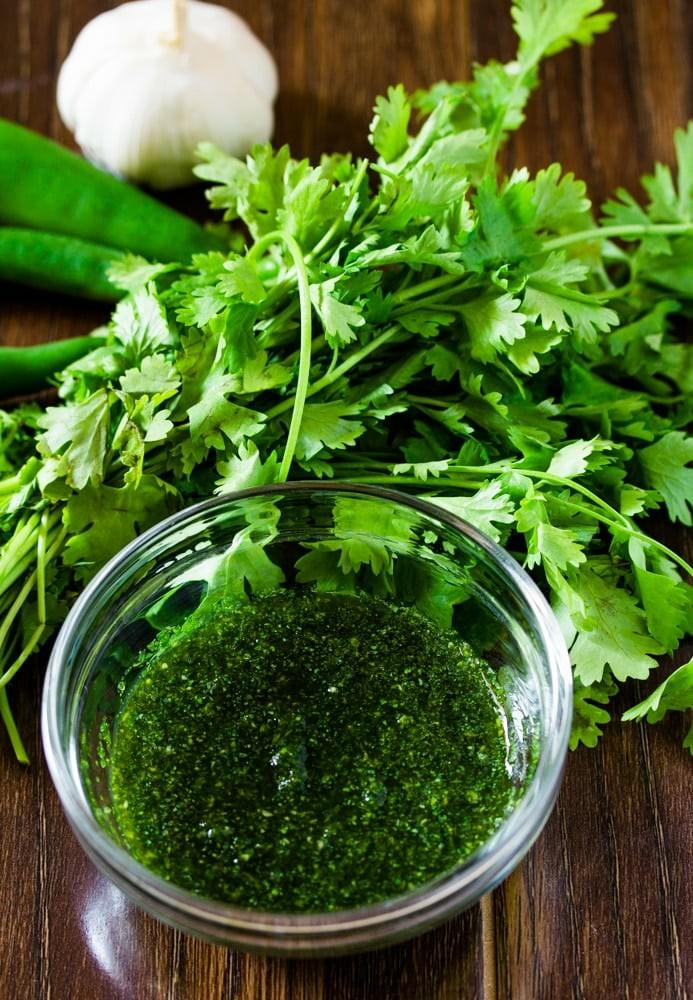GreenChutney: (114, 590, 509, 911)
